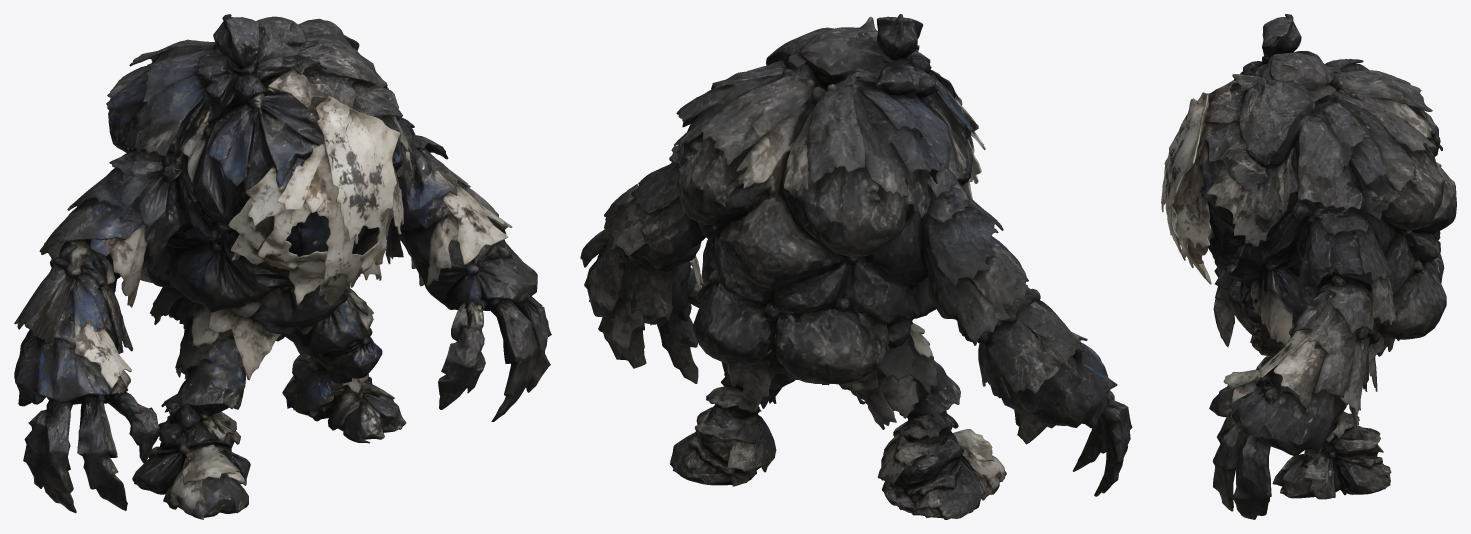
Rendered from rag_tripo_h31_raw.glb.
The picture shows the model from 3 angles, left to right: view 1: azimuth 30°, elevation 25°; view 2: azimuth 150°, elevation 25°; view 3: azimuth 270°, elevation 25°; orthographic projection. The views are drawn at different scales.
Visible parts, largest first — view 1: tripo_node_66815943-7c72-41f1-a02e-1f45883d331c; view 2: tripo_node_66815943-7c72-41f1-a02e-1f45883d331c; view 3: tripo_node_66815943-7c72-41f1-a02e-1f45883d331c.
Part boxes in pixels (x1,y1,x2,y2): tripo_node_66815943-7c72-41f1-a02e-1f45883d331c: (14,14,551,519); tripo_node_66815943-7c72-41f1-a02e-1f45883d331c: (580,14,1132,519); tripo_node_66815943-7c72-41f1-a02e-1f45883d331c: (1161,14,1456,519).
Bounding box in the file's own units: 1 × 0.8636 × 0.5515.
Materials: 1 (1 with a texture image).
